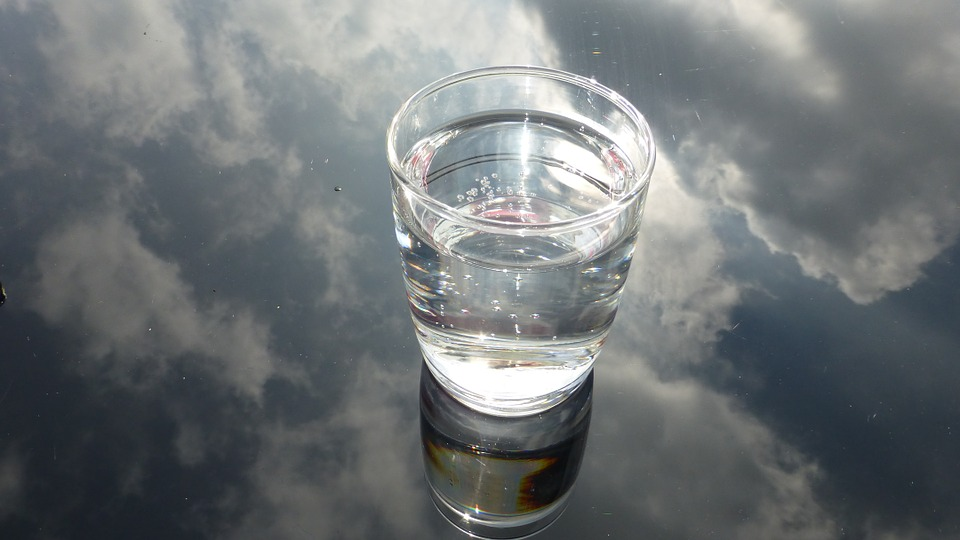glass of water: (399, 118, 621, 399)
